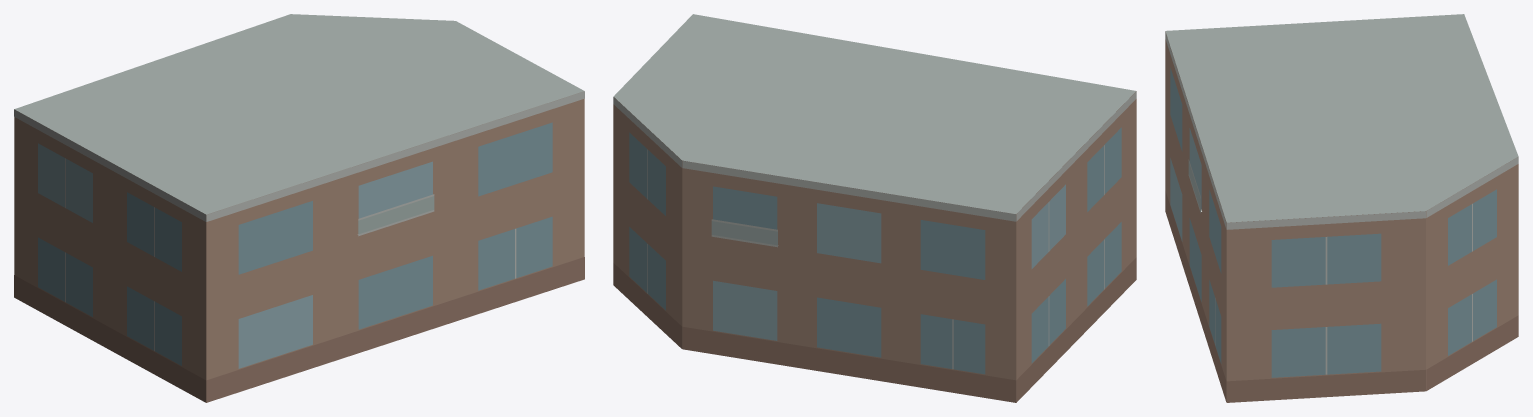
The model's file is survey-upis-32810004.glb.
3 views of the same model, side by side, from view 1: azimuth 30°, elevation 25°; view 2: azimuth 150°, elevation 25°; view 3: azimuth 270°, elevation 25° (orthographic). The views are drawn at different scales.
Parts seen in each view (by area): view 1: survey-upis-32810004.tmp; view 2: survey-upis-32810004.tmp; view 3: survey-upis-32810004.tmp.
Part boxes in pixels (x1,y1,x2,y2): survey-upis-32810004.tmp: (14, 14, 584, 402); survey-upis-32810004.tmp: (613, 14, 1136, 402); survey-upis-32810004.tmp: (1165, 14, 1518, 402).
Bounding box in the file's own units: 15.16 × 6.1 × 10.85.
